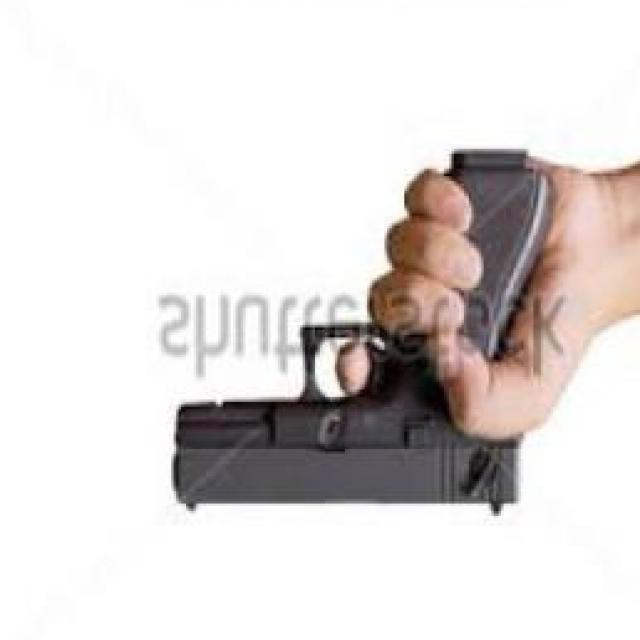pistol: (166, 150, 554, 511)
